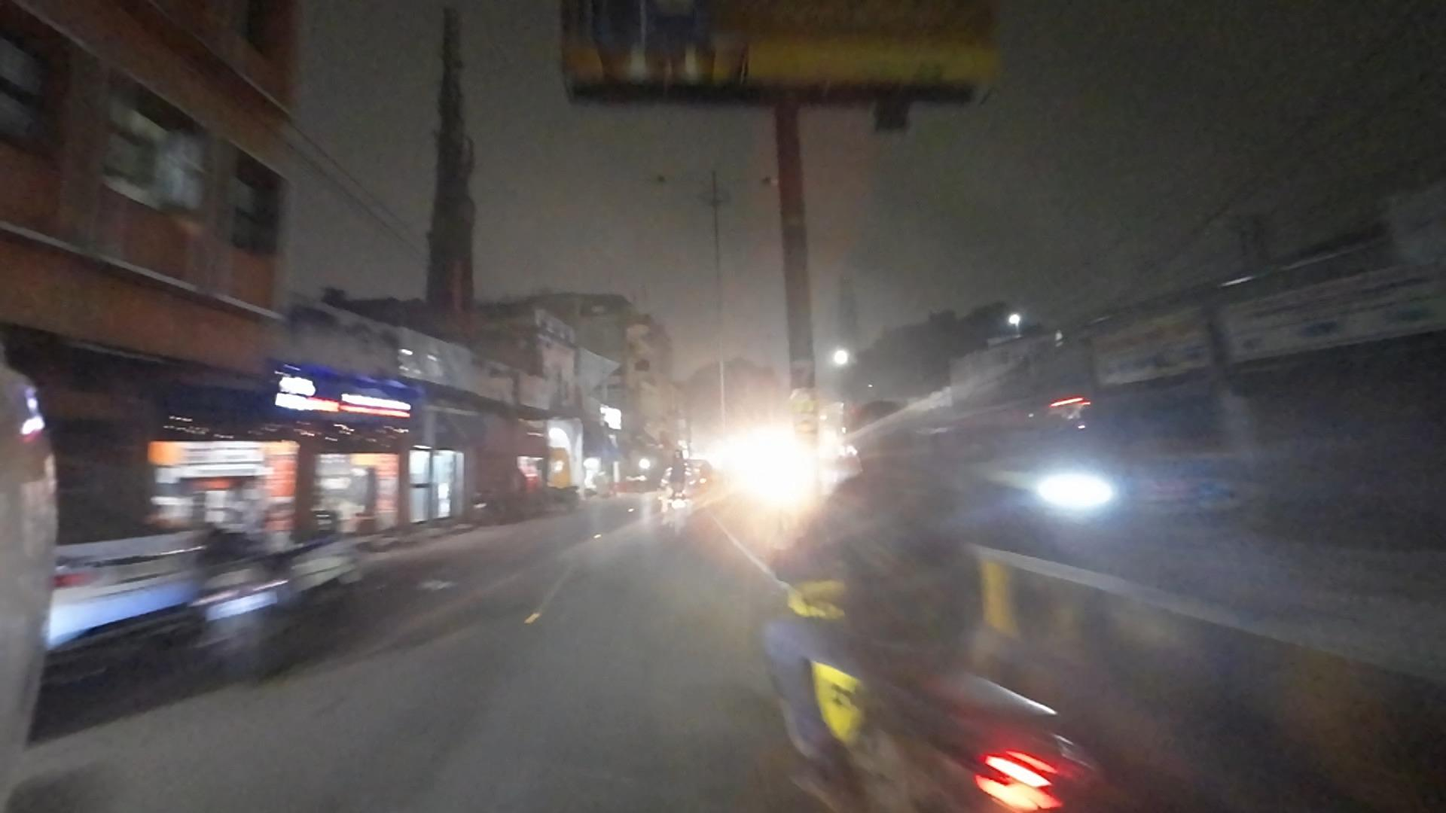streetlight: (648, 171, 709, 190), (720, 175, 784, 191)
